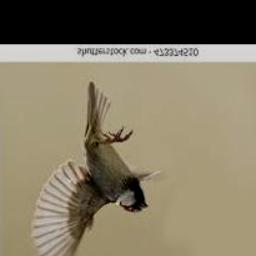Sparrow: (32, 83, 160, 256)
